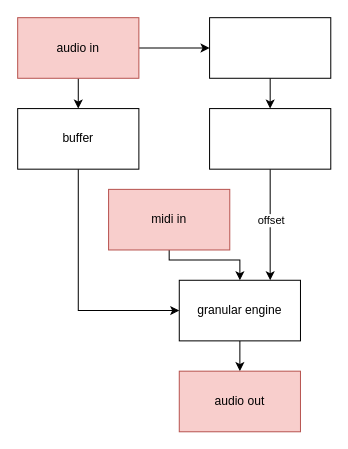
Some shapes in this 348 by 449 pixel diagram are drawn without their labels. The shapes that lost their labels are listed below. From the top down, each one's centre as x and y in pixels, then its label:
At pixel 270 47: "noise filter".
At pixel 270 138: "pitch detector".
